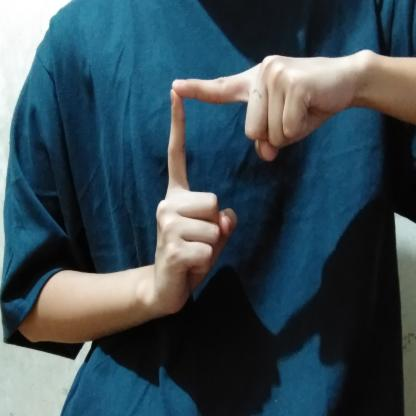when: (139, 46, 376, 326)
